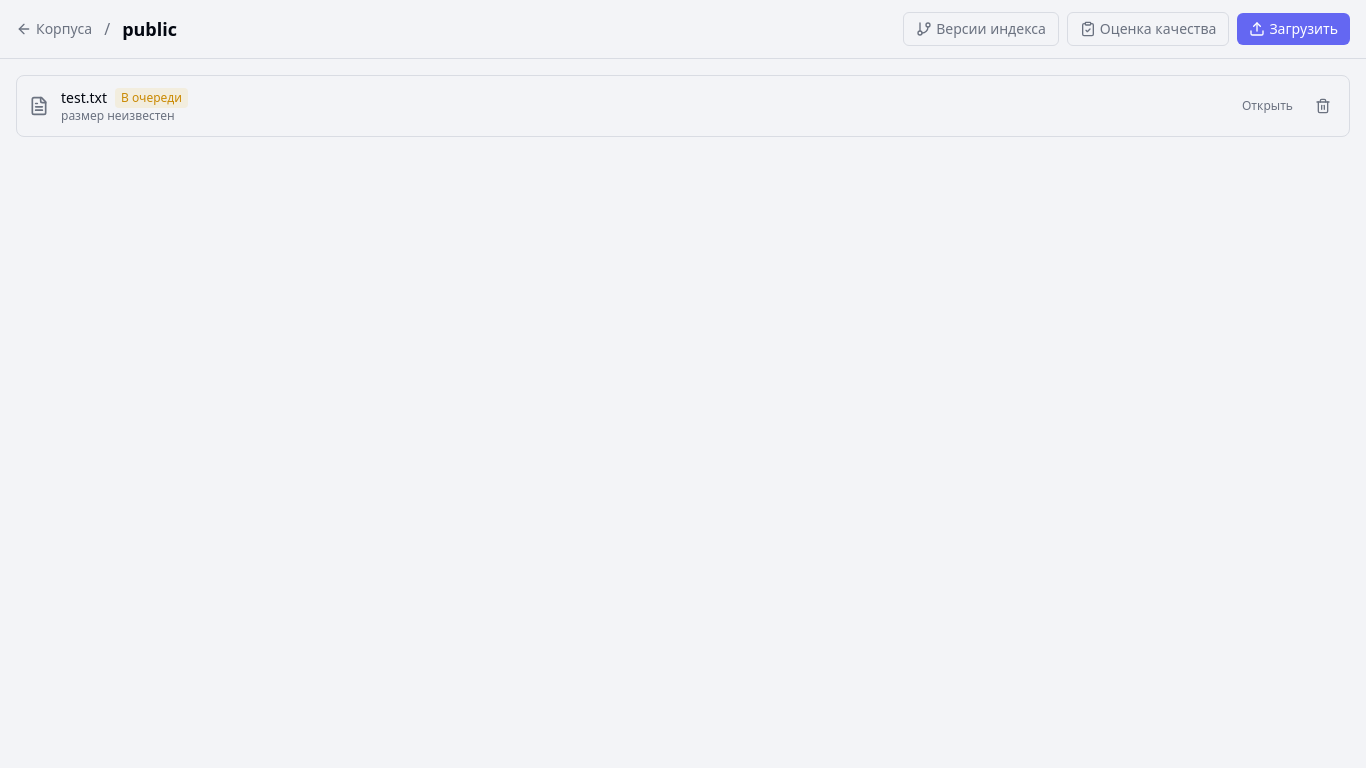
Test case: DocumentsPage › shows deferred delete notice when delete is postponed (BUG-020)
The image size is (1366, 768).
Click the button named "Удалить документ".
click(1323, 106)  # box [1309,92,1337,120]
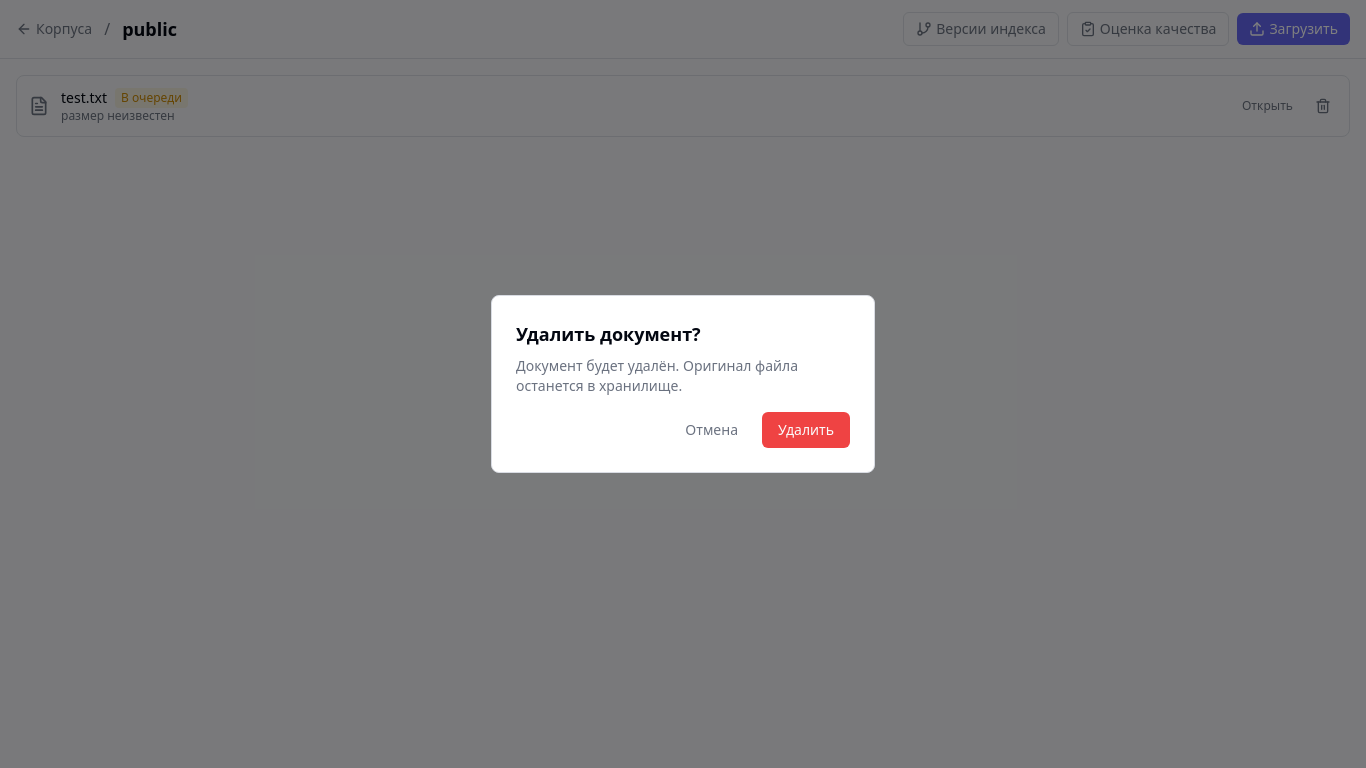
expect the heading "Удалить документ?" is shown: met, box [516,322,701,346]
Click the button "Удалить".
click(806, 430)  # box [762,412,850,448]
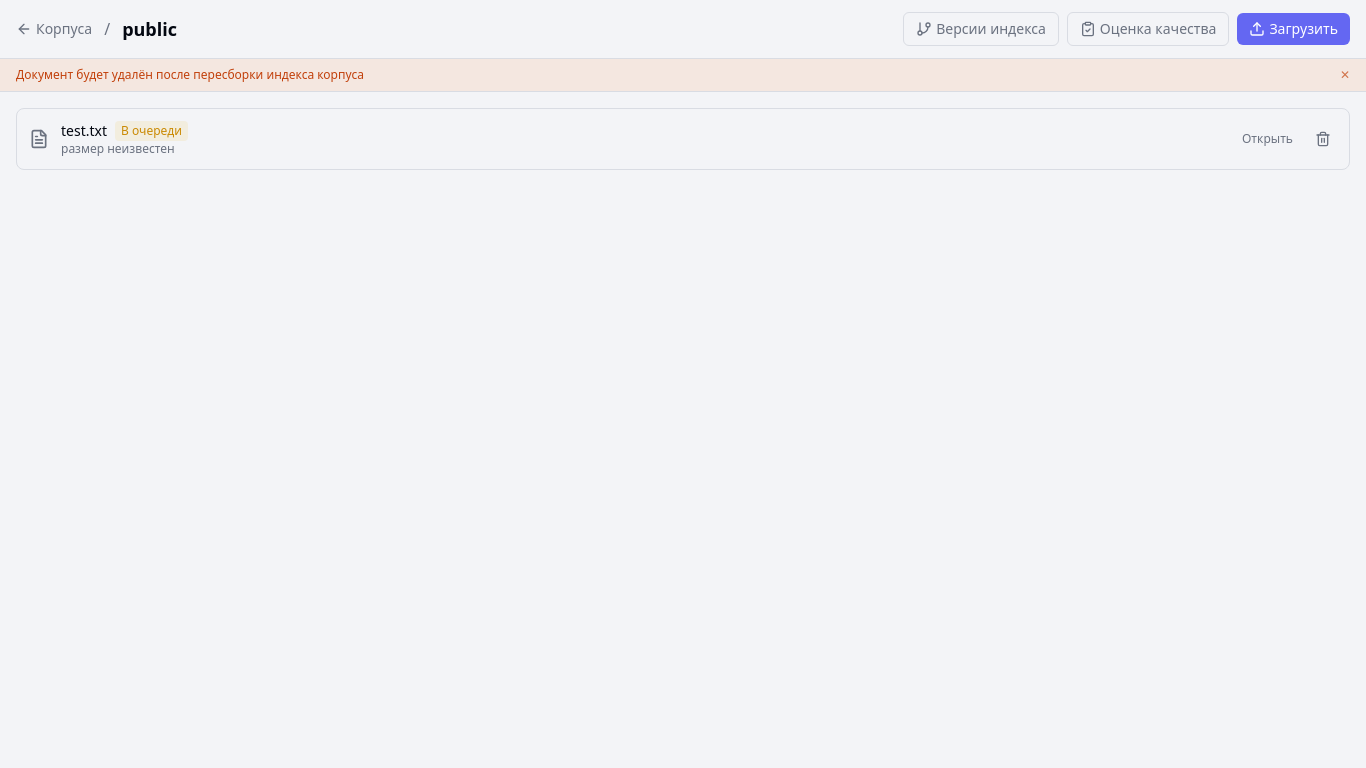
expect the text "Документ будет удалён после пересборки индекса корпуса" is shown: met, box [16,67,364,83]
